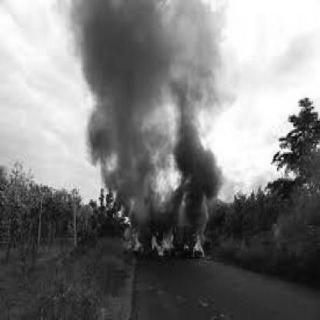Smoke: (66, 3, 222, 197)
